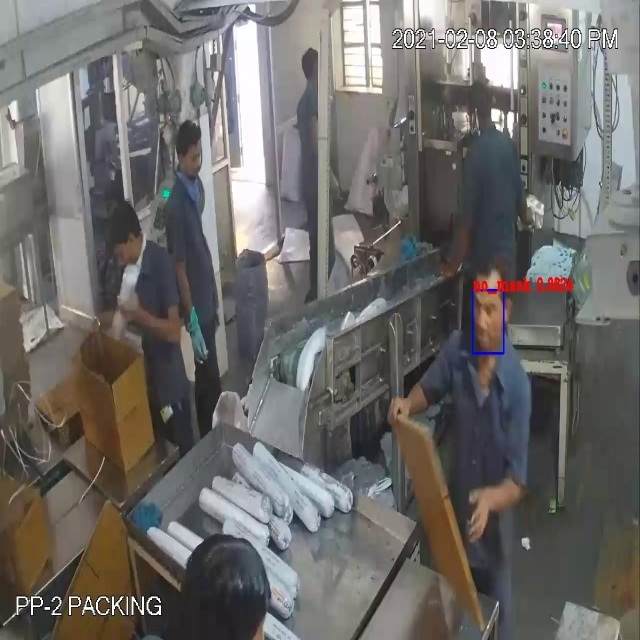Sin_guantes: (469, 457, 543, 539), (114, 289, 182, 349), (386, 375, 431, 437)
